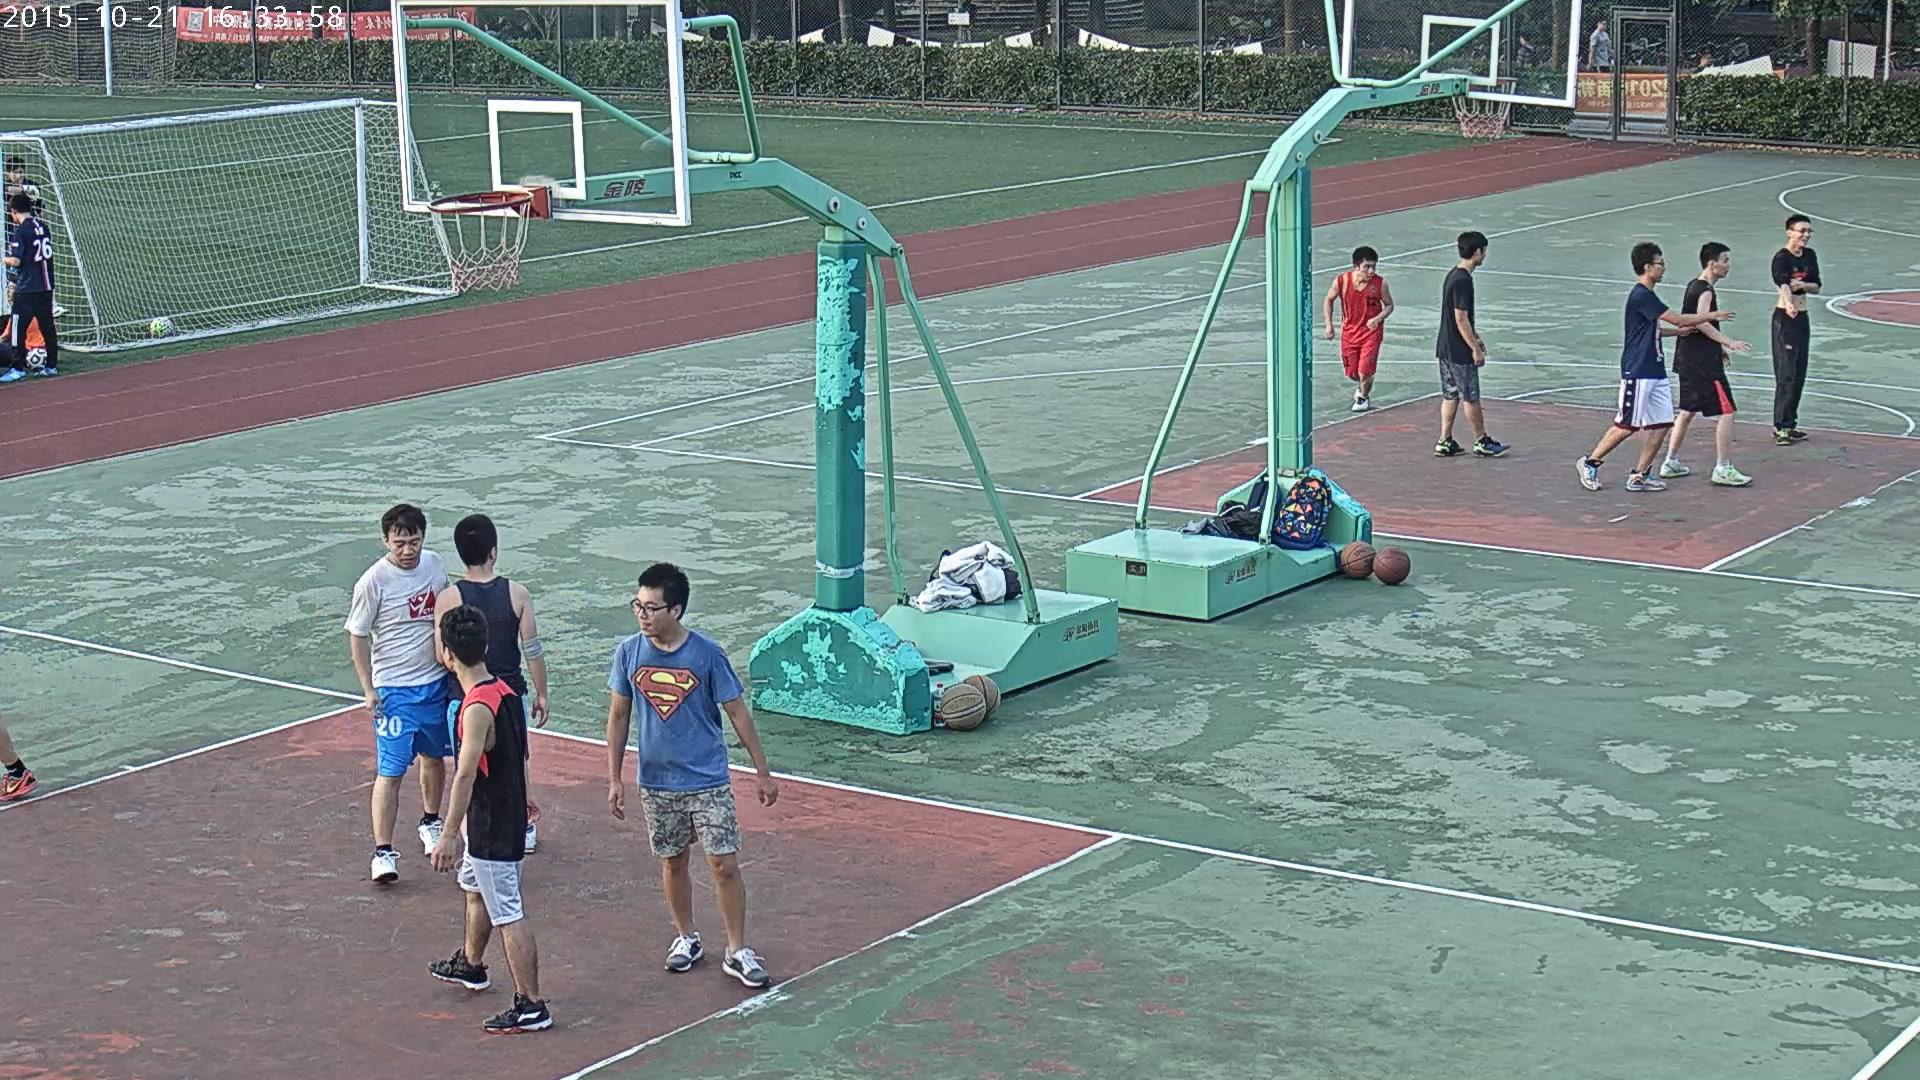face: (636, 585, 673, 636), (388, 524, 423, 568), (1791, 221, 1811, 247), (1650, 253, 1665, 281), (1713, 250, 1730, 276), (1359, 256, 1376, 281), (9, 166, 24, 183), (441, 642, 448, 671), (7, 281, 15, 301), (1702, 53, 1711, 64), (1479, 245, 1485, 265), (1598, 19, 1606, 30), (1519, 35, 1524, 43)
